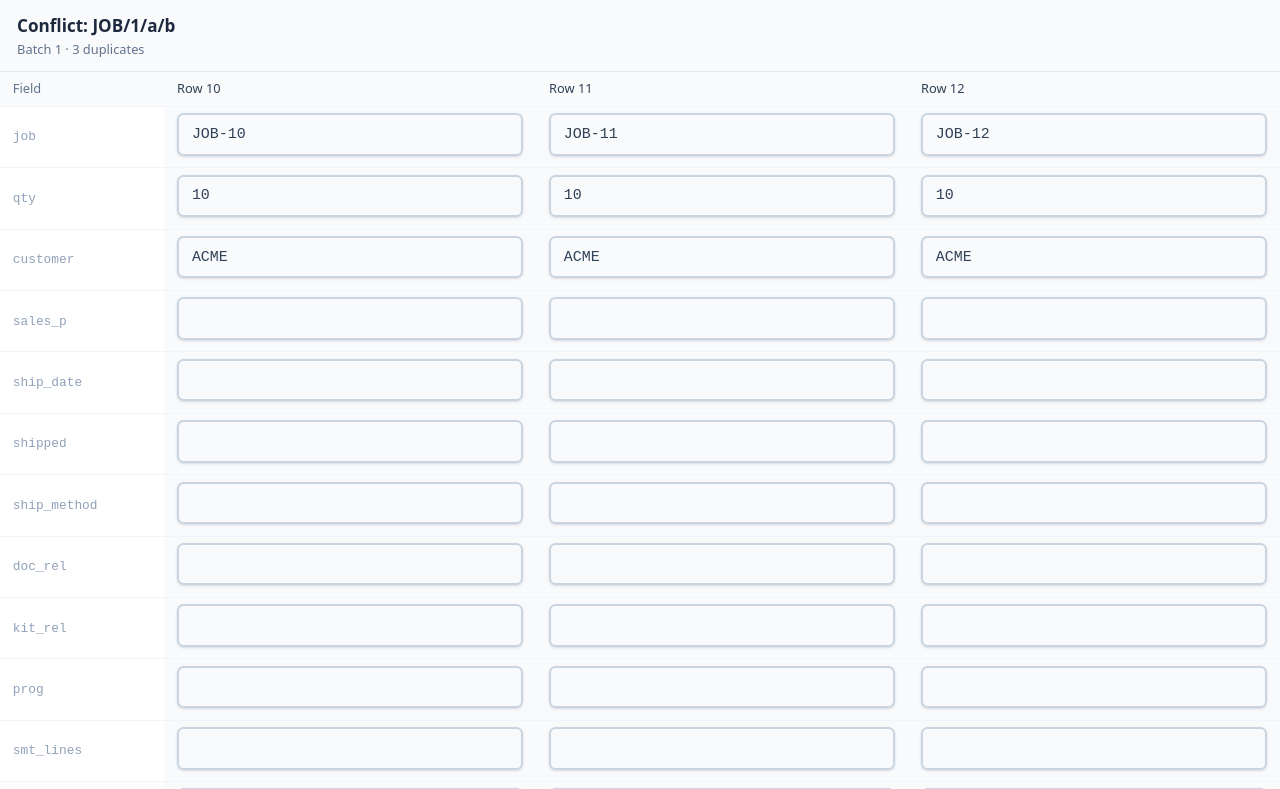
Test case: ConflictRowComparison — §3.3: status line text › shows combined edits+discards pending text
The width and height of the screenshot is (1280, 789).
Replace the text in the text box with test id "conflict-cell-10-raw_job" with "CHANGED" at (350, 134), box [177, 113, 523, 156]
(page scrolled)
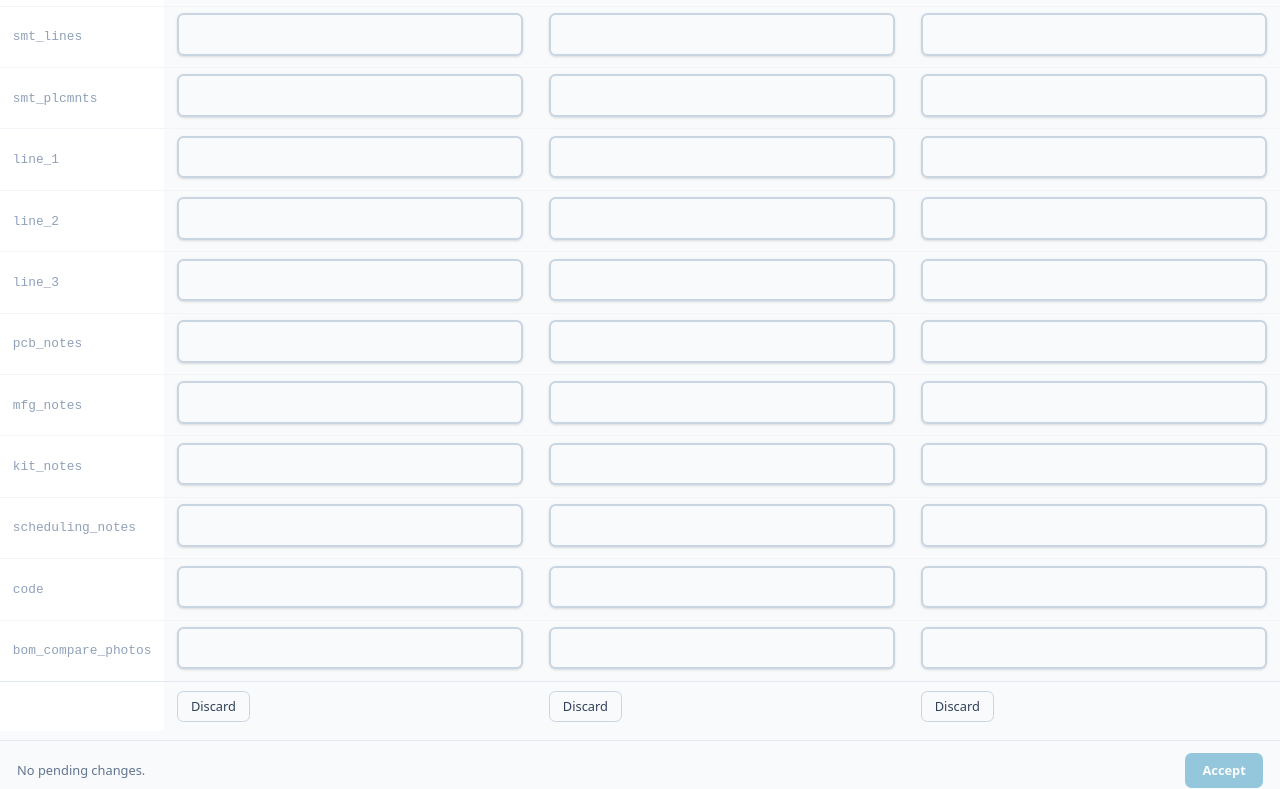
Click the button with test id "conflict-discard-btn-11" at (585, 706), box [549, 690, 622, 722]
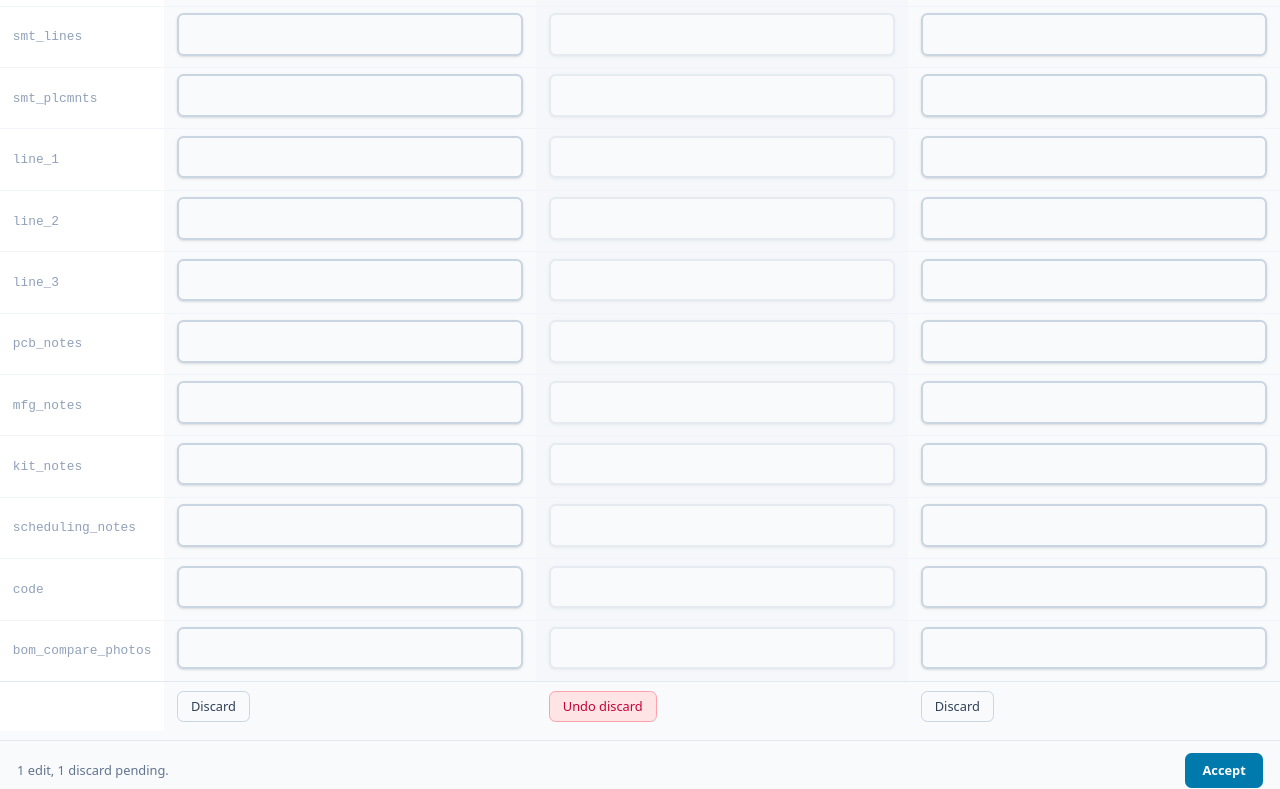
Check: the text with test id "conflict-status-line" reads "1 edit, 1 discard pending.", box [17, 761, 169, 779]
